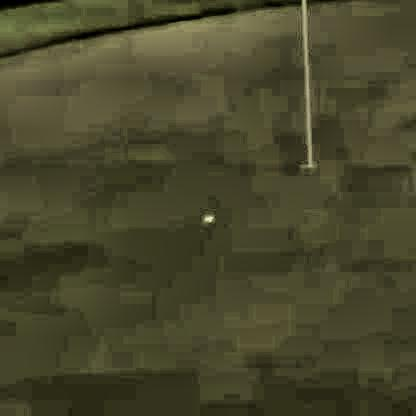golfball: (201, 213, 212, 223)
